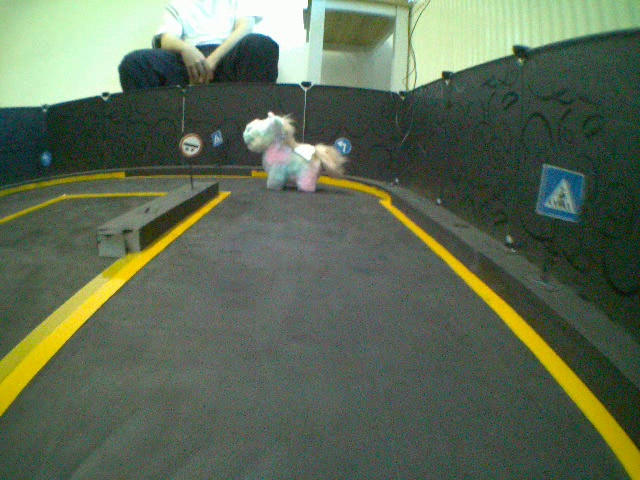unicorn: (240, 108, 346, 198)
